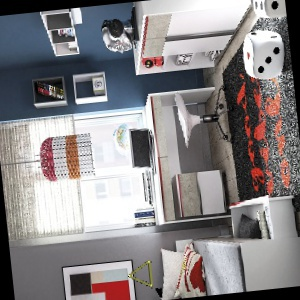triangle: (127, 259, 155, 289)
